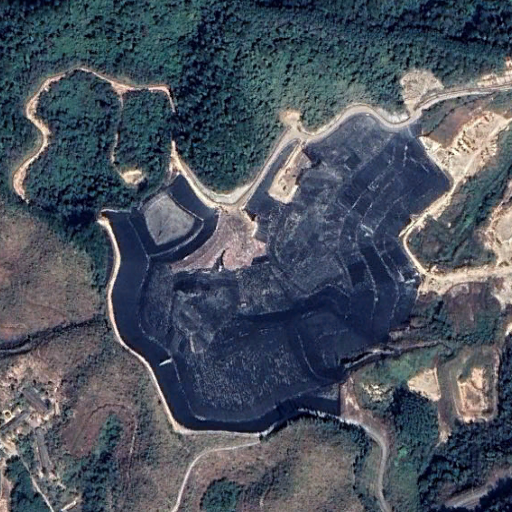lf: (105, 113, 452, 437)
